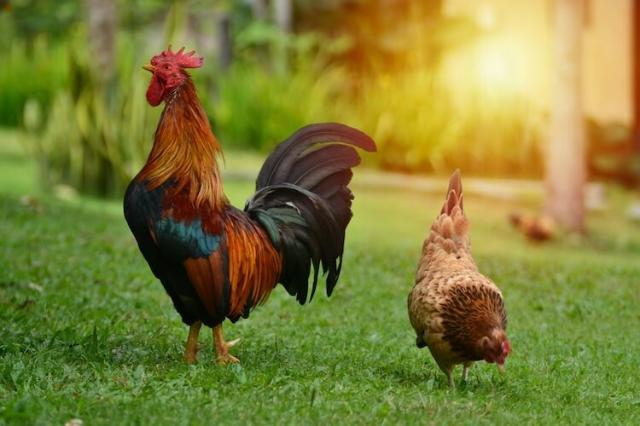Chicken: (124, 46, 379, 366), (409, 170, 514, 390)
